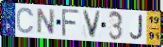3: (108, 10, 124, 42)
C: (16, 6, 35, 35)
F: (61, 9, 81, 38)
J: (129, 14, 144, 41)
N: (36, 7, 57, 36)
V: (81, 9, 103, 39)
